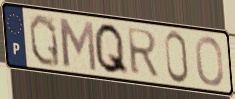0: (163, 29, 190, 86)
M: (56, 15, 99, 74)
O: (193, 35, 225, 88)
Q: (92, 21, 131, 78), (28, 12, 63, 69)
R: (125, 26, 161, 79)
